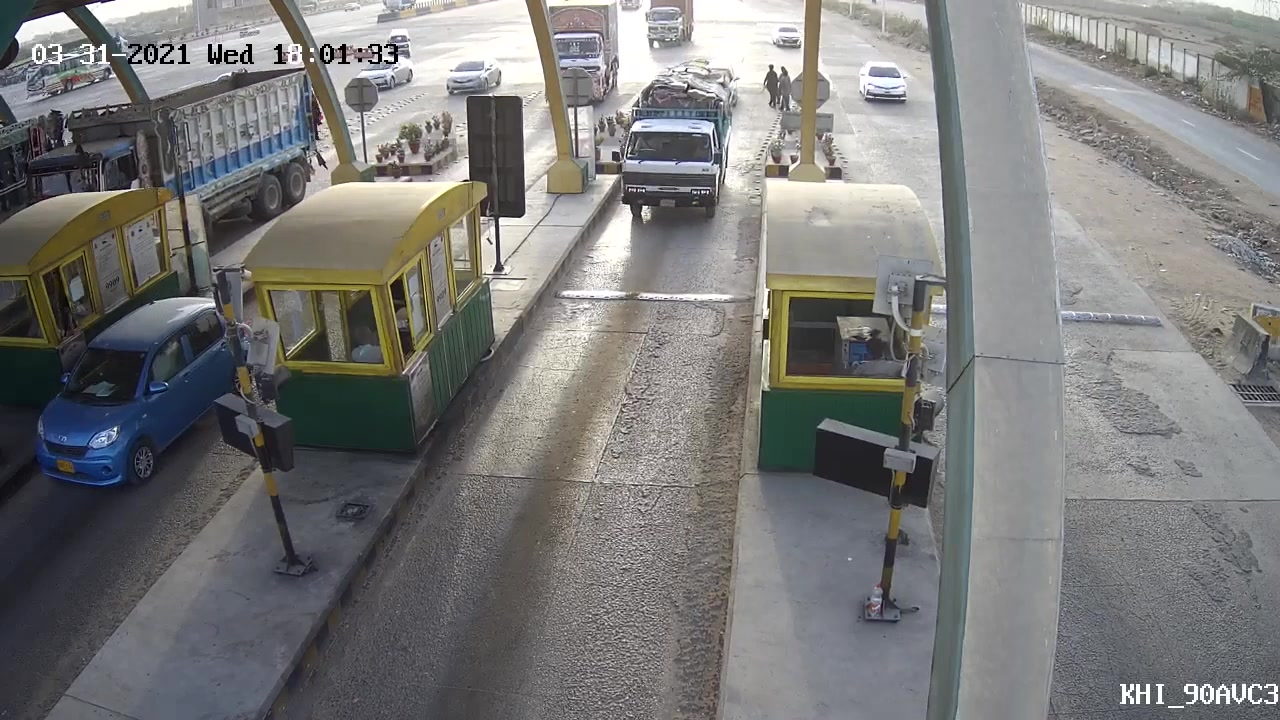F3: (598, 77, 735, 222)
